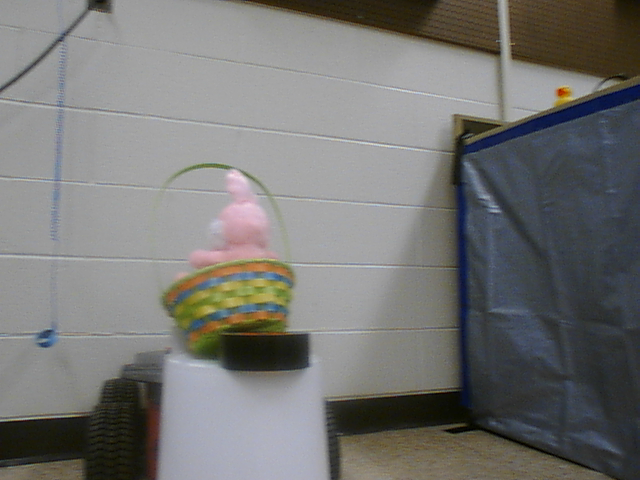bunny: (138, 152, 308, 359)
